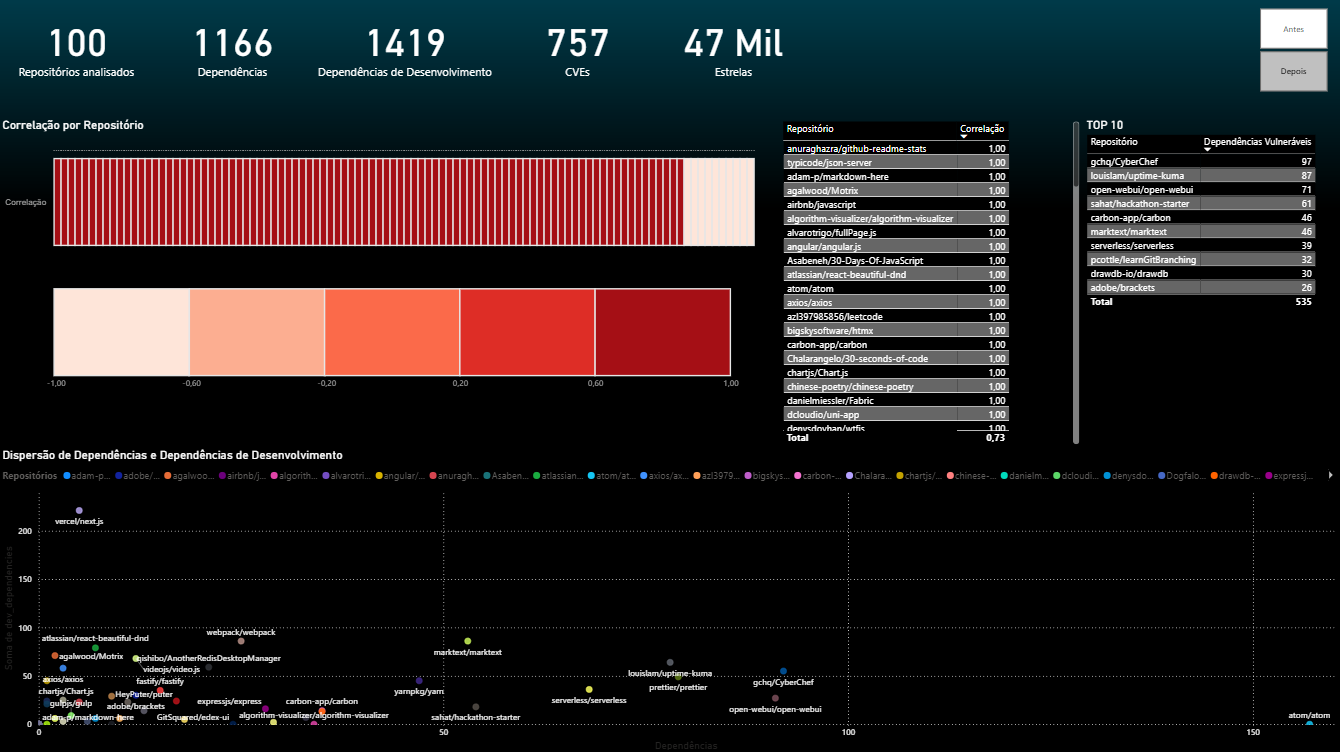

What the dashboard file says about the page in this screenshot:
{"tool":"powerbi","page":{"name":"Página 1","canvas":[2300,1100],"ordinal":0},"visuals":[{"type":"card","fields":{"Values":["CountNonNull(merged_queries.repo)"]},"box":[188.6,0,221.4,145.7],"z":0},{"type":"slicer","fields":{"Values":["merged_queries.Index"]},"box":[1964.3,0,145.7,145.7],"z":1000},{"type":"card","fields":{"Values":["Sum(merged_queries.dependencies)"]},"box":[410,0,224.3,145.7],"z":2000},{"type":"card","fields":{"Values":["Sum(merged_queries.dev_dependencies)"]},"box":[634.3,0,268.6,145.7],"z":3000},{"type":"card","fields":{"Values":["Sum(merged_queries.cves)"]},"box":[902.9,0,224.3,145.7],"z":4000},{"type":"card","fields":{"Values":["Median(merged_queries.stars)"]},"box":[1127.1,0,221.4,145.7],"z":5000},{"type":"scatterChart","title":"Dispersão de Dependências e Dependências de Desenvolvimento","fields":{"Category":["merged_queries.repo"],"X":["Sum(merged_queries.dependencies)"],"Series":["merged_queries.repo"],"Y":["Sum(merged_queries.dev_dependencies)"]},"box":[188,648,1922,438],"z":6000},{"type":"tableEx","title":"TOP 10","fields":{"Values":["merged_queries.repo","Sum(merged_queries.vulnerable_deps)"]},"box":[1737.1,177.1,372.9,284.3],"z":7000},{"type":"tableEx","fields":{"Values":["after_dependencies_cve_summary.repo","after_dependencies_cve_summary.Correlacao"]},"box":[1302.9,177.1,434.3,471.4],"z":7001},{"type":"TableHeatMap1443716069308","fields":{"Category":["after_dependencies_cve_summary.repo"],"Y":["after_dependencies_cve_summary.Correlacao"]},"box":[188.6,177.1,1114.3,471.4],"z":7002}]}

Visuals, with their boxes on the page's 2300x1100 design canvas (x1, y1, x2, y2). These are canvas units, not pixel positions in the 1340x752 screenshot, which may show the page scaled, cropped or inside an application window:
card - CountNonNull(merged_queries.repo): {"x1": 189, "y1": 0, "x2": 410, "y2": 146}
slicer - merged_queries.Index: {"x1": 1964, "y1": 0, "x2": 2110, "y2": 146}
card - Sum(merged_queries.dependencies): {"x1": 410, "y1": 0, "x2": 634, "y2": 146}
card - Sum(merged_queries.dev_dependencies): {"x1": 634, "y1": 0, "x2": 903, "y2": 146}
card - Sum(merged_queries.cves): {"x1": 903, "y1": 0, "x2": 1127, "y2": 146}
card - Median(merged_queries.stars): {"x1": 1127, "y1": 0, "x2": 1348, "y2": 146}
"Dispersão de Dependências e Dependências de Desenvolvimento" scatterChart: {"x1": 188, "y1": 648, "x2": 2110, "y2": 1086}
"TOP 10" tableEx: {"x1": 1737, "y1": 177, "x2": 2110, "y2": 461}
tableEx - after_dependencies_cve_summary.repo x after_dependencies_cve_summary.Correlacao: {"x1": 1303, "y1": 177, "x2": 1737, "y2": 648}
TableHeatMap1443716069308 - after_dependencies_cve_summary.repo x after_dependencies_cve_summary.Correlacao: {"x1": 189, "y1": 177, "x2": 1303, "y2": 648}
